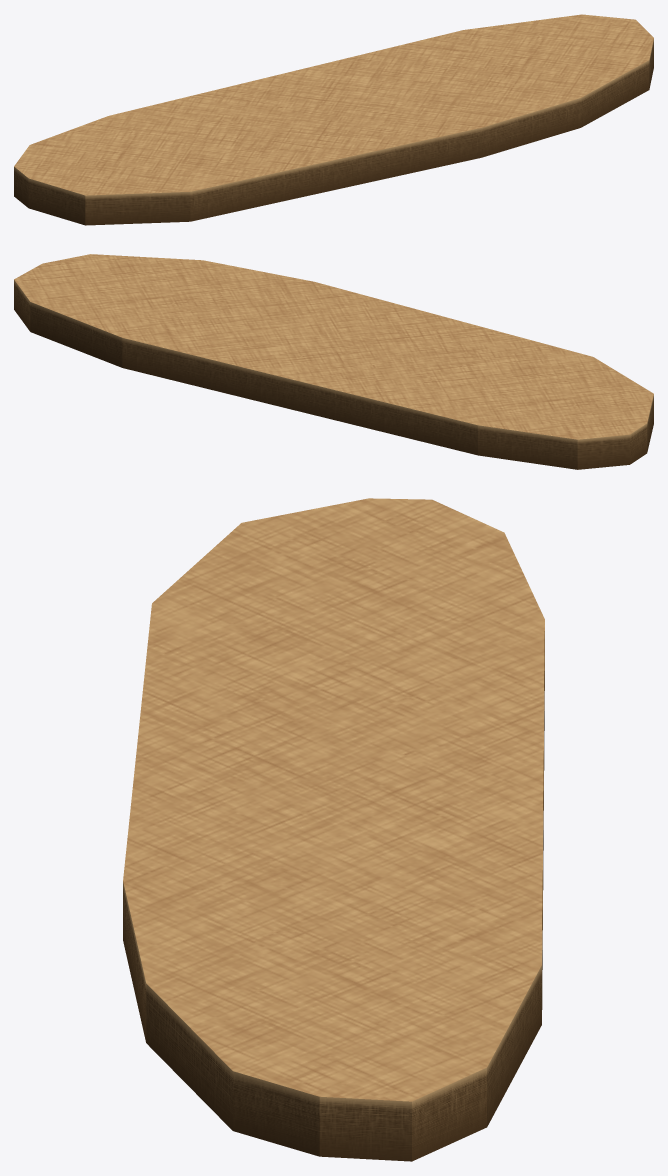
Rendered from Terrain05_A.FBX.
3 views of the same model, one above another, from view 1: azimuth 30°, elevation 25°; view 2: azimuth 150°, elevation 25°; view 3: azimuth 270°, elevation 25° (orthographic). The views are drawn at different scales.
Visible parts, largest first — view 1: Terrain05_A; view 2: Terrain05_A; view 3: Terrain05_A.
Part boxes in pixels (x1,y1,x2,y2): Terrain05_A: (14, 14, 653, 225); Terrain05_A: (14, 254, 653, 469); Terrain05_A: (123, 498, 544, 1161).
Size of the model in its own units: 1091 by 50.55 by 322.
Materials: 1 (1 with a texture image).
